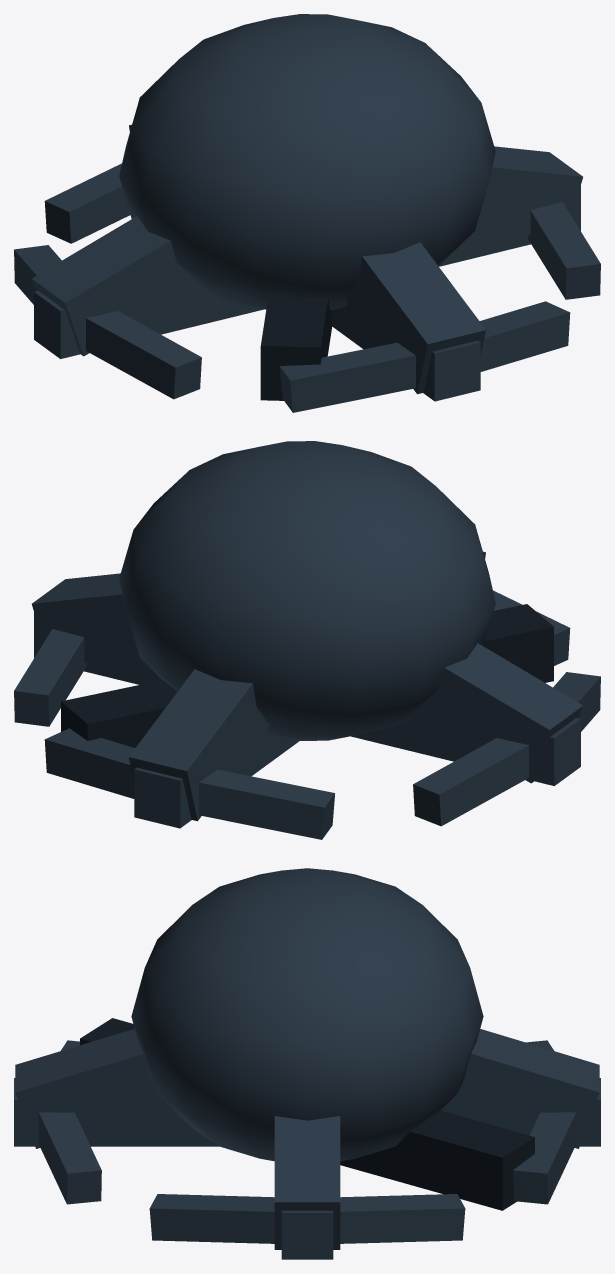
Rendered from CMU3DHiveXenoHiveWeedsSourceHidden.glb.
The picture shows the model from 3 angles, top to bottom: view 1: azimuth 30°, elevation 25°; view 2: azimuth 150°, elevation 25°; view 3: azimuth 270°, elevation 25°; orthographic projection. The views are drawn at different scales.
Parts seen in each view (by area): view 1: root nodule, anchoring root (×3), branching ground filament (×6), tile-joining root (×3), central ground rhizome; view 2: root nodule, anchoring root (×3), branching ground filament (×6), tile-joining root (×3), central ground rhizome; view 3: root nodule, anchoring root (×3), branching ground filament (×4), central ground rhizome, tile-joining root (×3).
Part boxes in pixels (<box>): root nodule: <box>119,14,495,310</box>; anchoring root (×3): <box>31,146,582,394</box>; branching ground filament (×6): <box>14,163,600,412</box>; tile-joining root (×3): <box>34,185,580,401</box>; central ground rhizome: <box>260,298,332,400</box>; root nodule: <box>119,441,495,740</box>; anchoring root (×3): <box>32,573,583,821</box>; branching ground filament (×6): <box>14,590,600,839</box>; tile-joining root (×3): <box>34,612,580,828</box>; central ground rhizome: <box>61,604,553,747</box>; root nodule: <box>131,868,483,1161</box>; anchoring root (×3): <box>15,1029,599,1249</box>; branching ground filament (×4): <box>38,1112,576,1243</box>; central ground rhizome: <box>80,1018,534,1210</box>; tile-joining root (×3): <box>14,1078,600,1259</box>.
Size of the model in its own units: 0.5 by 0.24 by 0.5.
